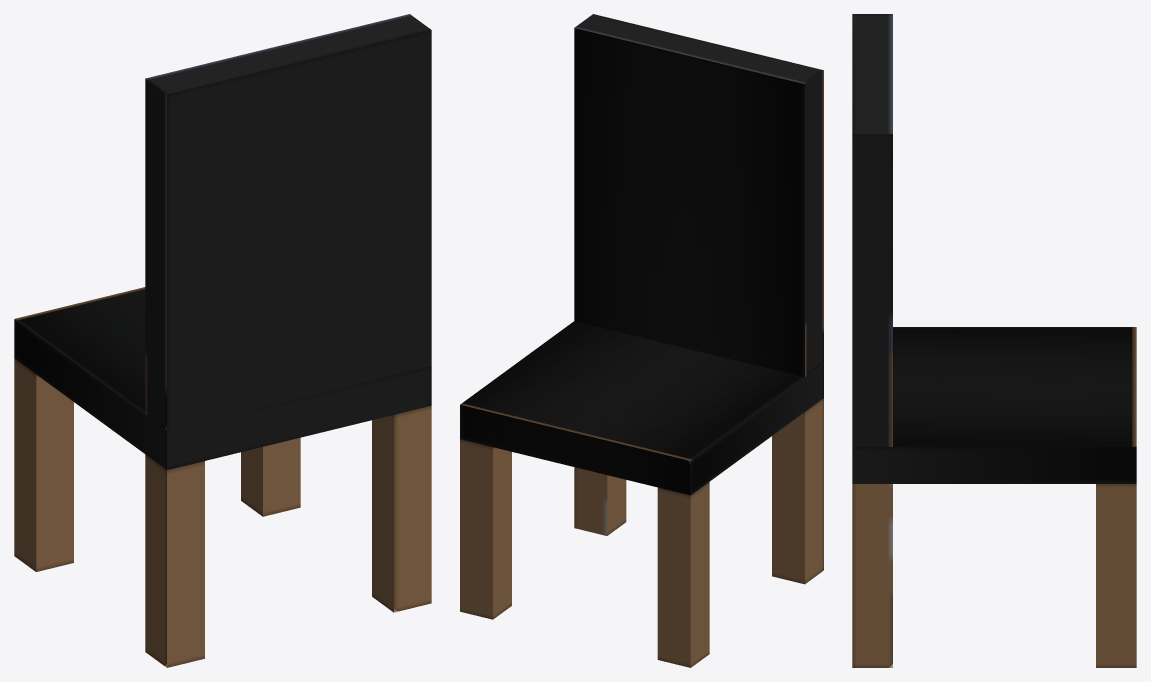
The model's file is stolicka2.fbx.
3 views of the same model, side by side, from view 1: azimuth 30°, elevation 25°; view 2: azimuth 150°, elevation 25°; view 3: azimuth 270°, elevation 25° (orthographic). The views are drawn at different scales.
Parts seen in each view (by area): view 1: cube_5, cube_4, cube_3, cube, cube_2, cube_1; view 2: cube_5, cube_4, cube_2, cube_1, cube_3, cube; view 3: cube_4, cube_5, cube, cube_1.
Boxes of the visible parts, x1,y1,x2,y2 form: cube_5: [145, 14, 431, 430]; cube_4: [14, 287, 431, 469]; cube_3: [145, 454, 204, 667]; cube: [372, 405, 431, 612]; cube_2: [14, 358, 73, 571]; cube_1: [241, 437, 300, 516]; cube_5: [574, 14, 823, 377]; cube_4: [460, 321, 823, 495]; cube_2: [657, 482, 709, 667]; cube_1: [460, 439, 511, 619]; cube_3: [772, 398, 823, 584]; cube: [574, 467, 626, 535]; cube_4: [852, 327, 1136, 483]; cube_5: [852, 14, 892, 446]; cube: [852, 484, 892, 667]; cube_1: [1096, 484, 1136, 667].
Bounding box in the file's own units: 87.5 × 181 × 87.5.
1 material, 1 textured.
